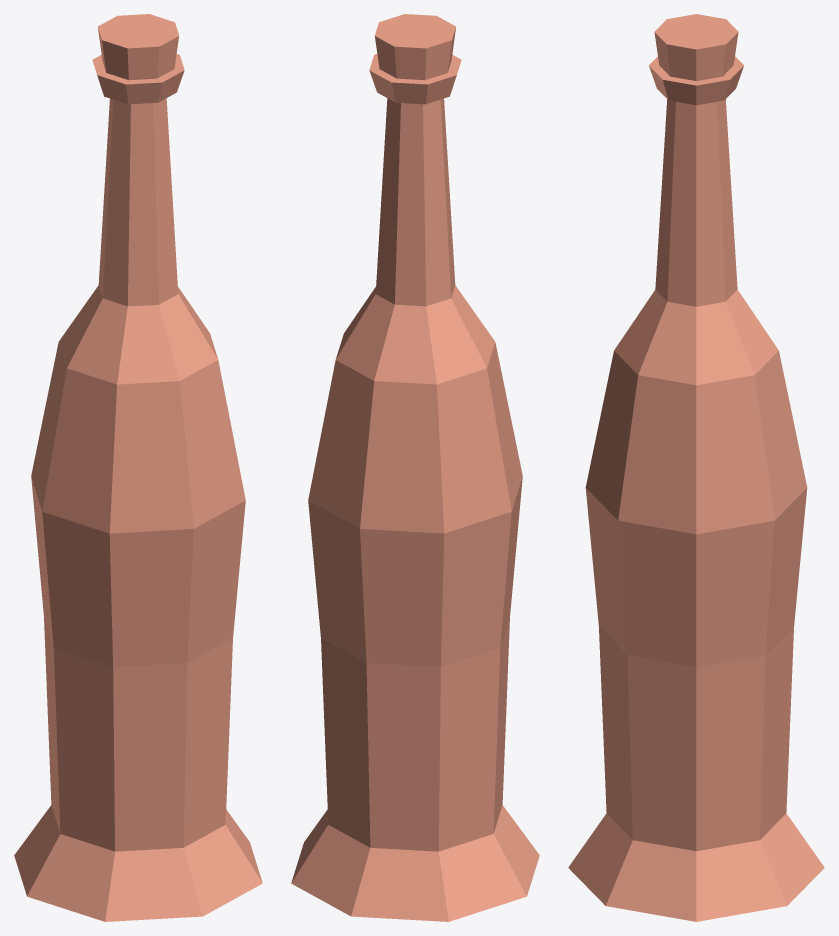
The model's file is Bottle.fbx.
3 views of the same model, side by side, from view 1: azimuth 30°, elevation 25°; view 2: azimuth 150°, elevation 25°; view 3: azimuth 270°, elevation 25° (orthographic).
Parts seen in each view (by area): view 1: Bottle; view 2: Bottle; view 3: Bottle.
Part boxes in pixels (x1=…): Bottle: x1=14, y1=14, x2=262, y2=921; Bottle: x1=291, y1=14, x2=539, y2=921; Bottle: x1=568, y1=14, x2=824, y2=921.
Bounding box in the file's own units: 15.29 × 54.92 × 15.29.
